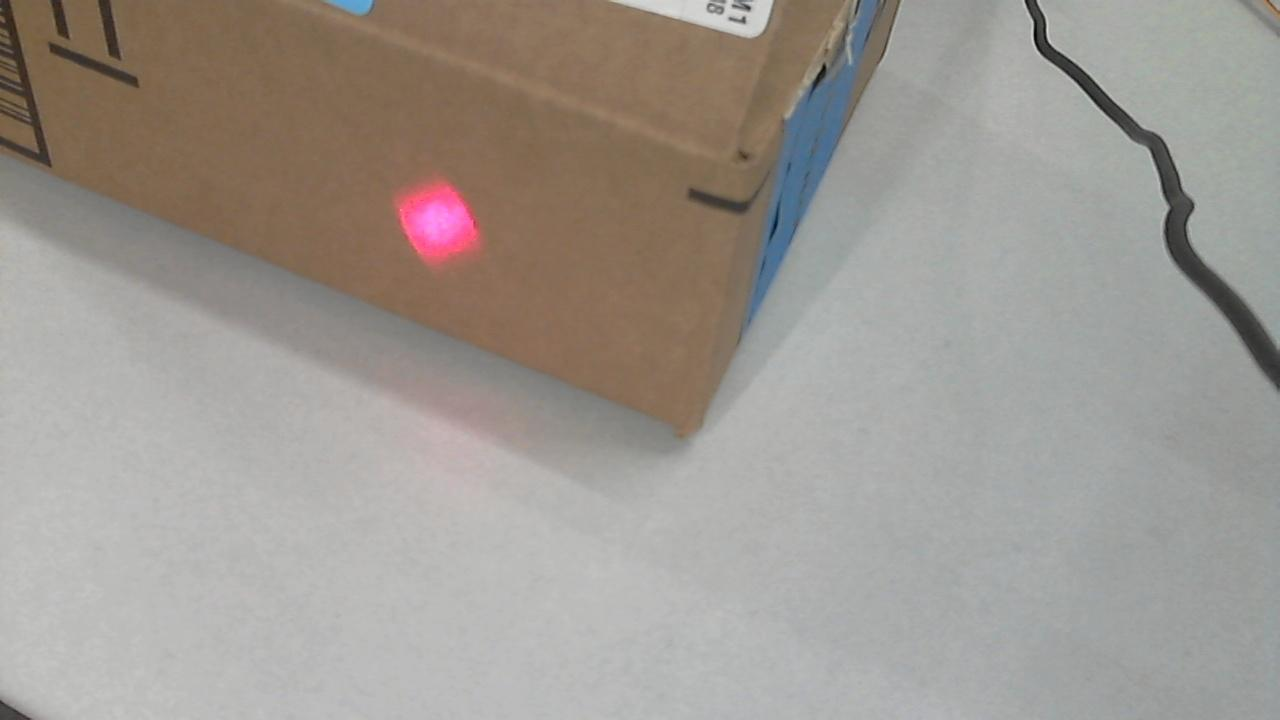Object cardboard shipping box - Material composite - Color brown - Pdfname OHMlP: (335, 148, 487, 278)
